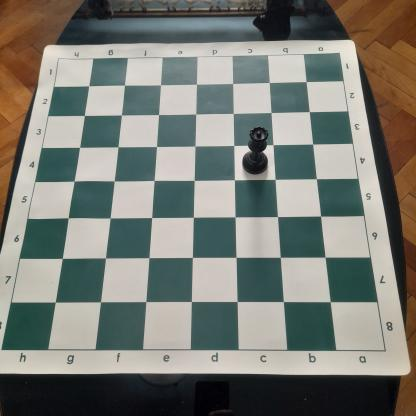black-queen: (241, 124, 269, 176)
